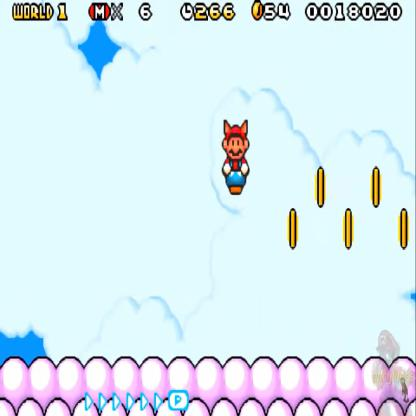Mario: (220, 117, 252, 197)
moneda: (286, 200, 303, 254), (370, 163, 384, 207), (343, 204, 356, 251), (315, 164, 330, 204), (396, 210, 412, 244), (251, 0, 263, 20)
